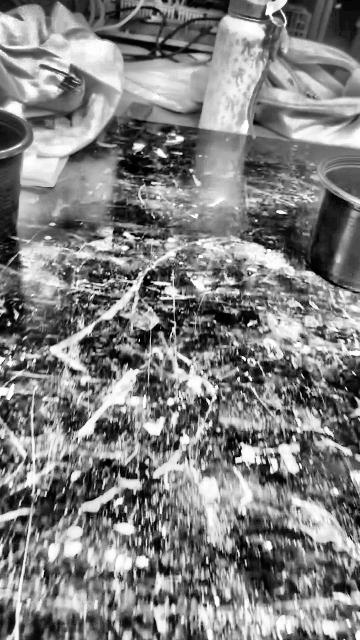pot: (309, 159, 360, 294), (0, 111, 32, 241)
